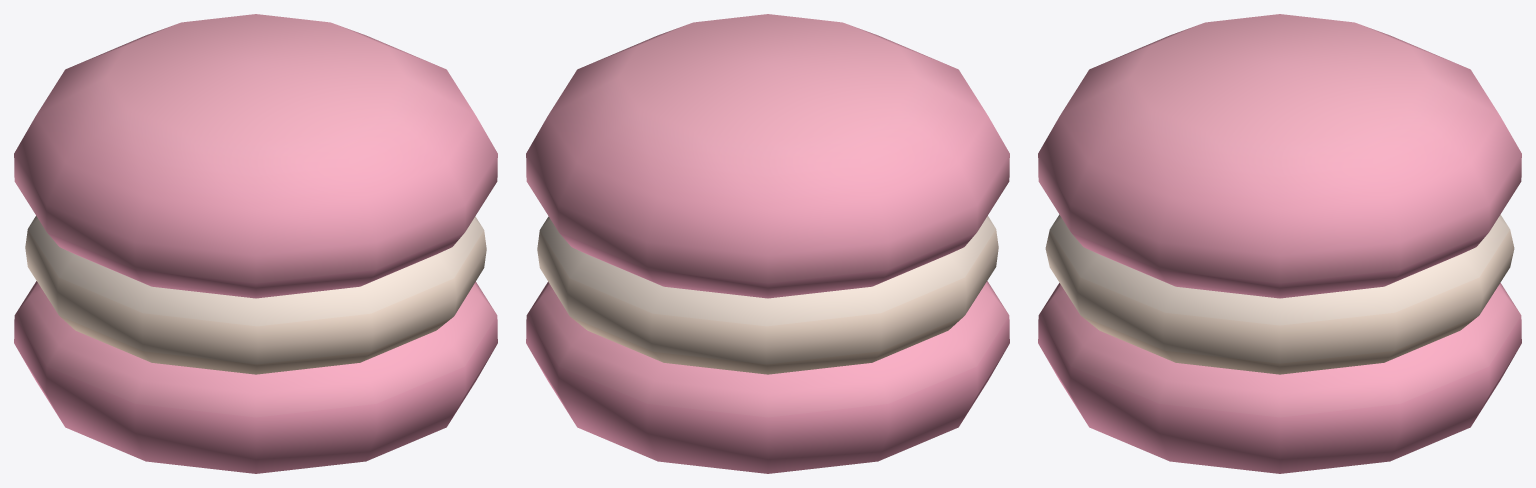
File: macaron-pink.glb
3 renders of one model, left to right at view 1: azimuth 30°, elevation 25°; view 2: azimuth 150°, elevation 25°; view 3: azimuth 270°, elevation 25°, orthographic.
Visible parts, largest first — view 1: macaron_pink; view 2: macaron_pink; view 3: macaron_pink.
Boxes of the visible parts, x1,y1,x2,y2 form: macaron_pink: (14, 14, 497, 473); macaron_pink: (526, 14, 1009, 473); macaron_pink: (1038, 14, 1521, 473).
Bounding box in the file's own units: 0.25 × 0.2 × 0.25.
1 material, 1 textured.
